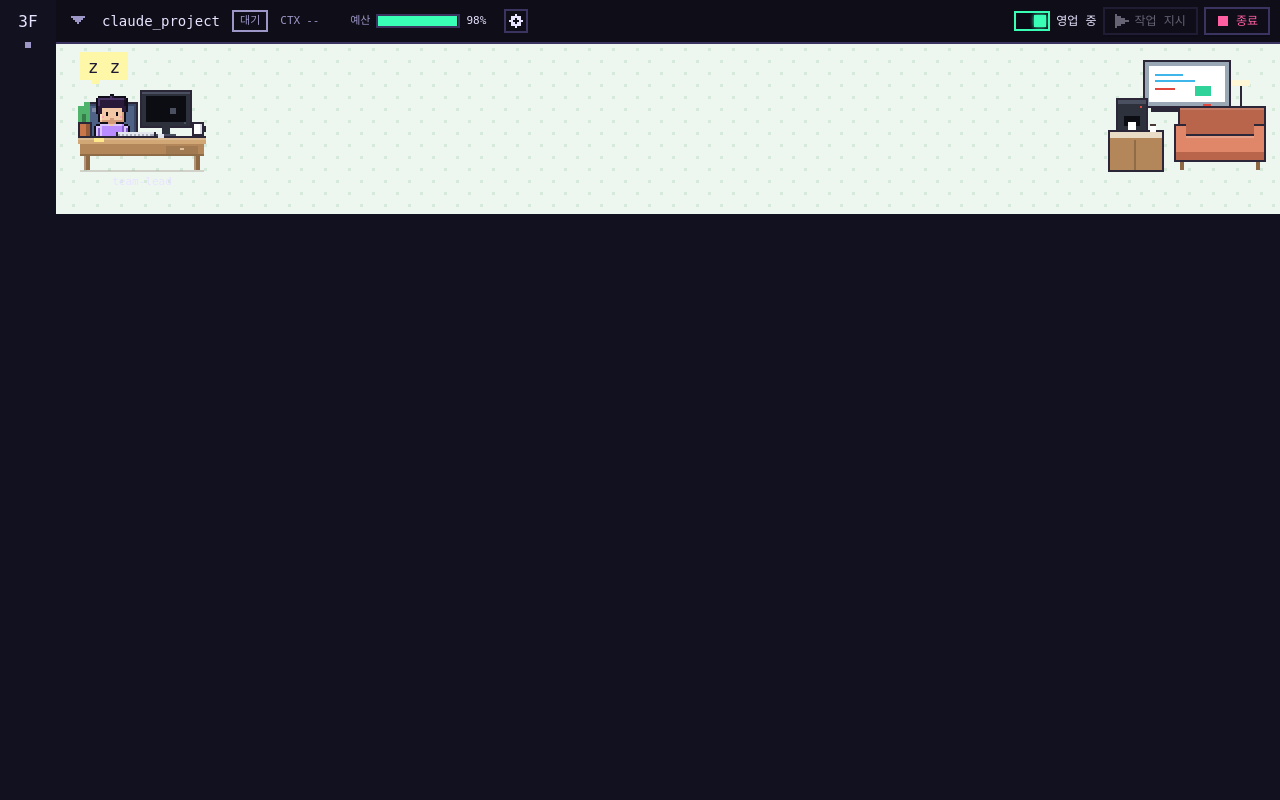
Test: 설정 창(§6.2) › 설정 창에서 저장하면 PUT /api/budget에 {sessionId, budgetTokens}를 보낸다
Click the button named "claude_project 예산 설정" at (516,21), box x1=504 y1=9 x2=528 y2=33
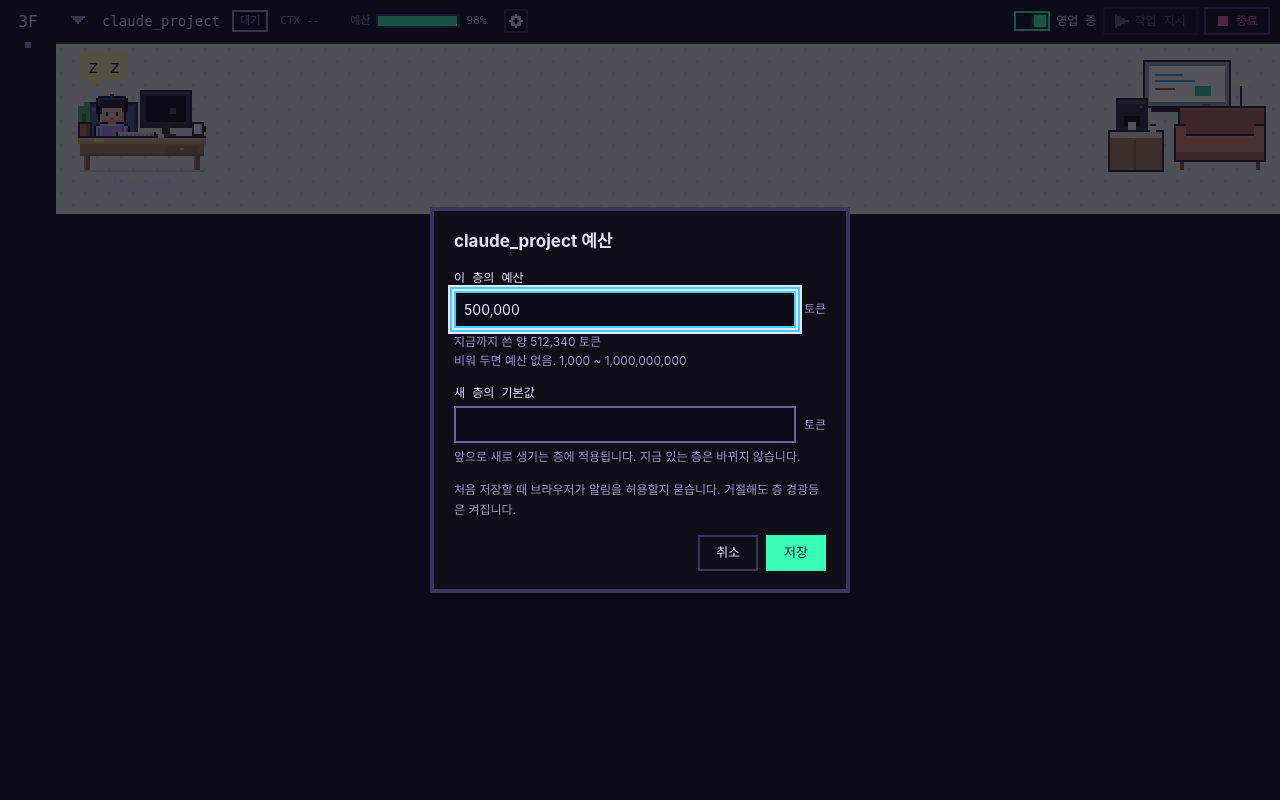
Result: the field labelled "이 층의 예산" holds "500,000"
Result: the dialog "claude_project 예산" shows "지금까지 쓴 양 512,340 토큰" at x1=454 y1=334 x2=601 y2=349
Replace the text in the field labelled "이 층의 예산" with "1,200,000" at (625,309), box x1=454 y1=291 x2=796 y2=328
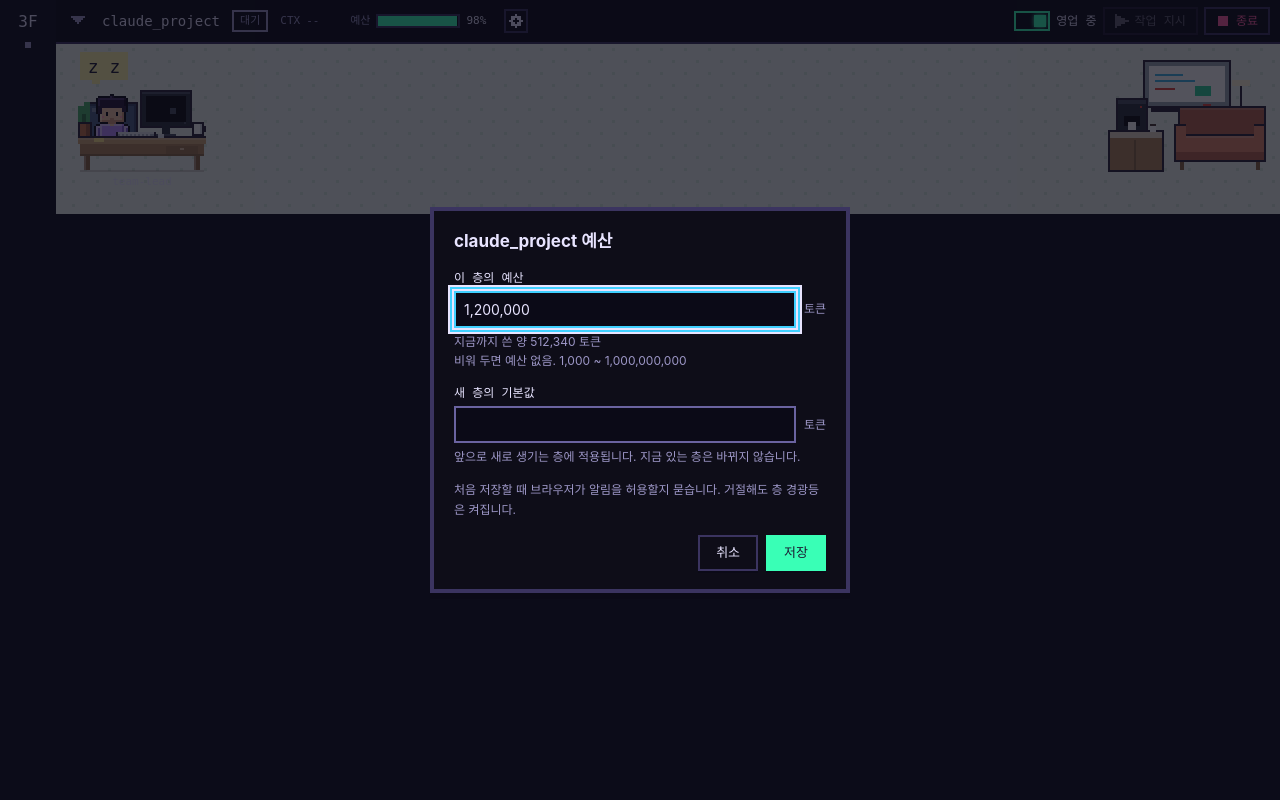
Click the button "저장" at (796,553), box x1=766 y1=535 x2=826 y2=571
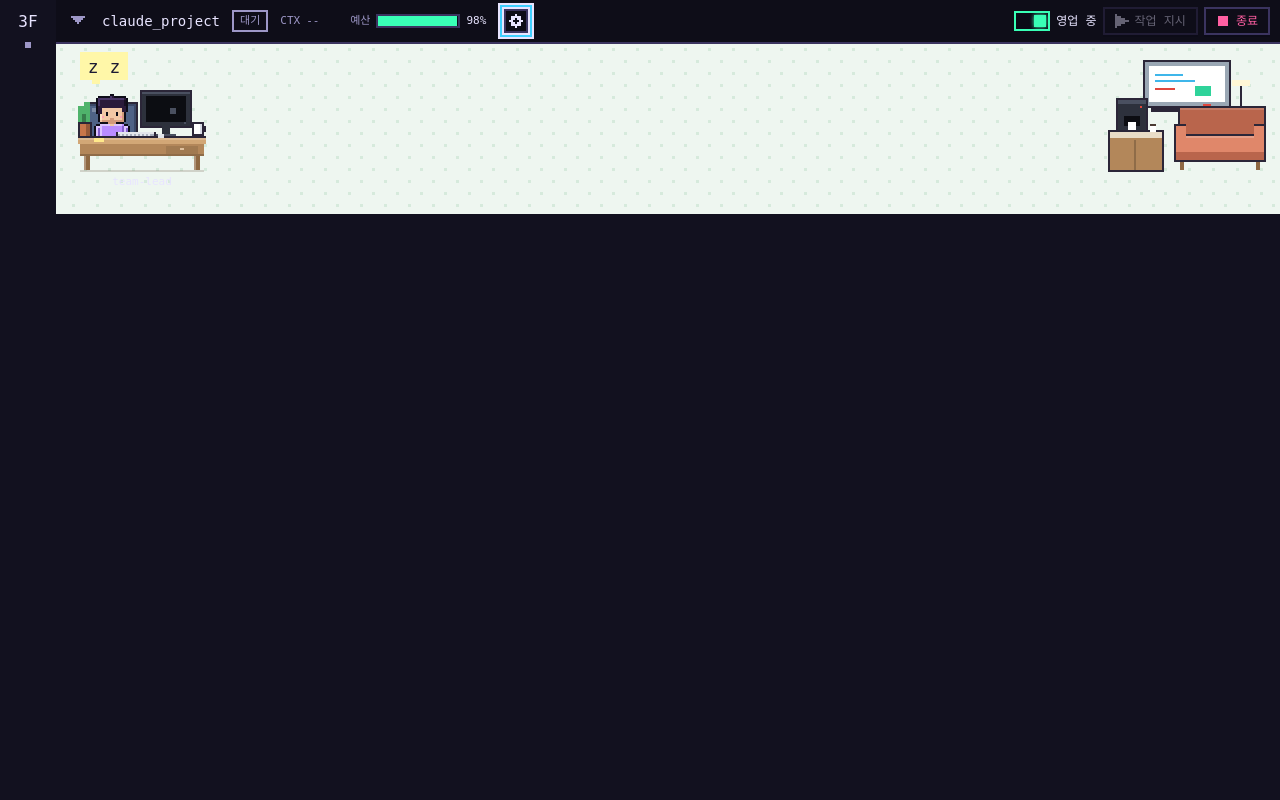
Result: the dialog is gone
